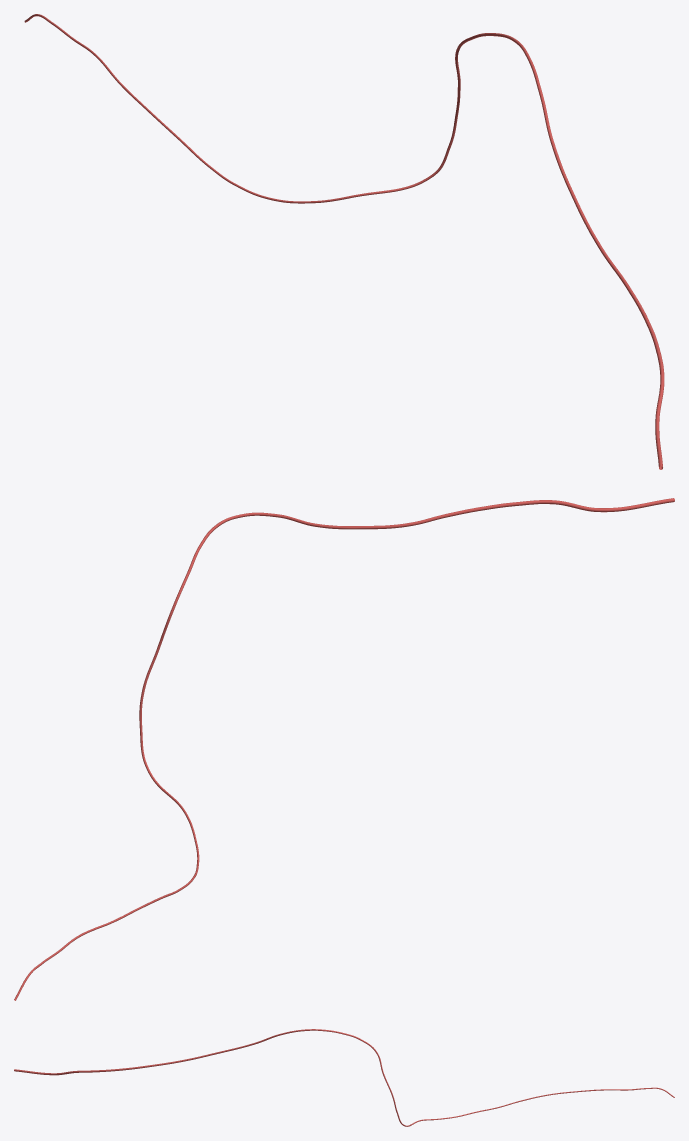
The picture shows the model from 3 angles, top to bottom: view 1: azimuth 30°, elevation 25°; view 2: azimuth 150°, elevation 25°; view 3: azimuth 270°, elevation 25°; orthographic projection. The views are drawn at different scales.
Visible parts, largest first — view 1: 左睾丸动脉; view 2: 左睾丸动脉; view 3: 左睾丸动脉.
Boxes of the visible parts, left/top/right/bottom form: 左睾丸动脉: left=24, top=14, right=664, bottom=469; 左睾丸动脉: left=14, top=498, right=674, bottom=1000; 左睾丸动脉: left=14, top=1029, right=674, bottom=1126.
Size of the model in its own units: 0.0812 by 0.1011 by 0.5261.
